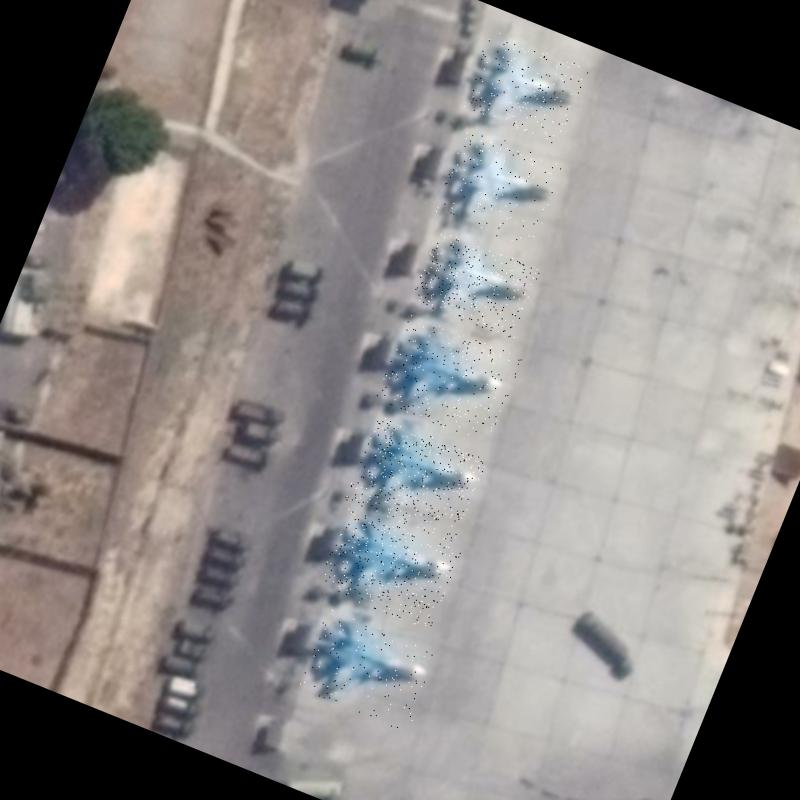A1: (432, 125, 566, 250), (458, 29, 589, 146), (410, 228, 542, 341)
A19: (374, 312, 522, 445), (294, 606, 442, 734), (344, 414, 487, 544), (316, 506, 460, 630)
